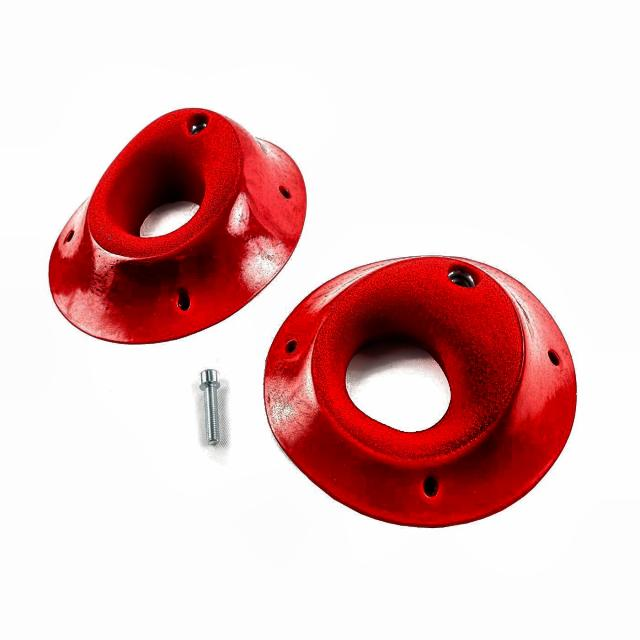Hold: (263, 255, 576, 529), (50, 101, 307, 346)
